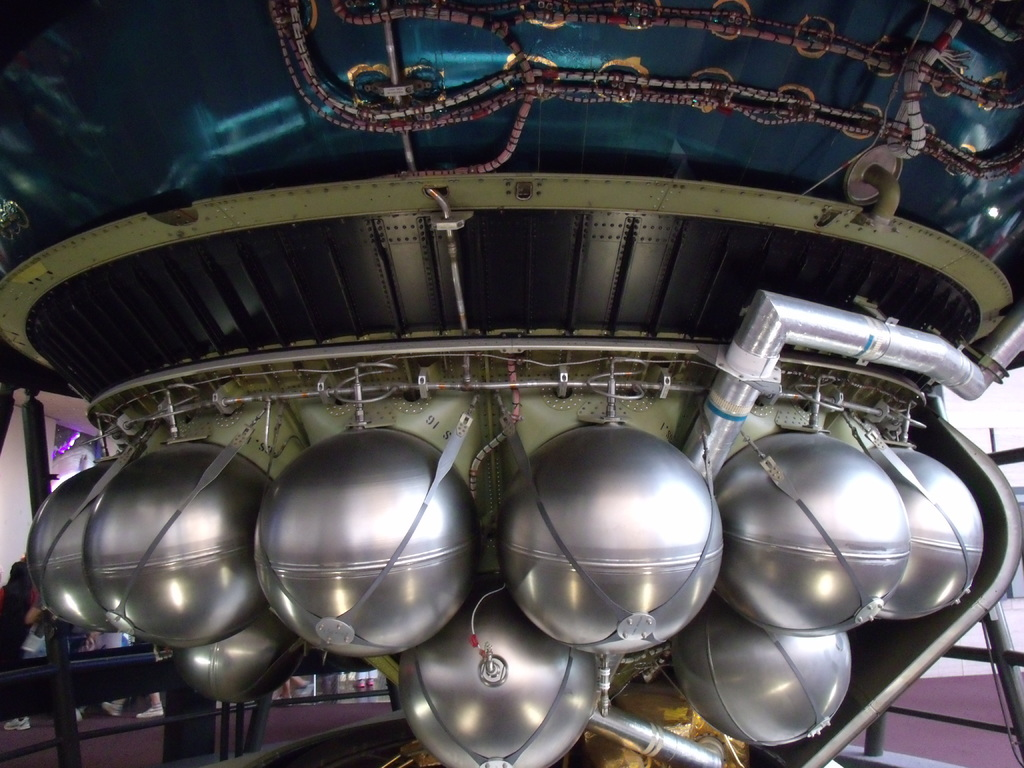Ball: (495, 426, 723, 655), (256, 426, 476, 648), (723, 434, 916, 637), (86, 443, 267, 645), (403, 583, 599, 767), (680, 599, 857, 744), (868, 455, 982, 619), (28, 463, 107, 625), (174, 616, 297, 701)
